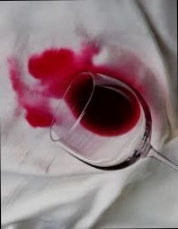wine: (27, 51, 143, 103), (12, 55, 59, 130)
